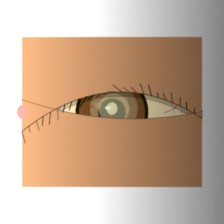corneal_ulcer: (89, 89, 139, 129)
